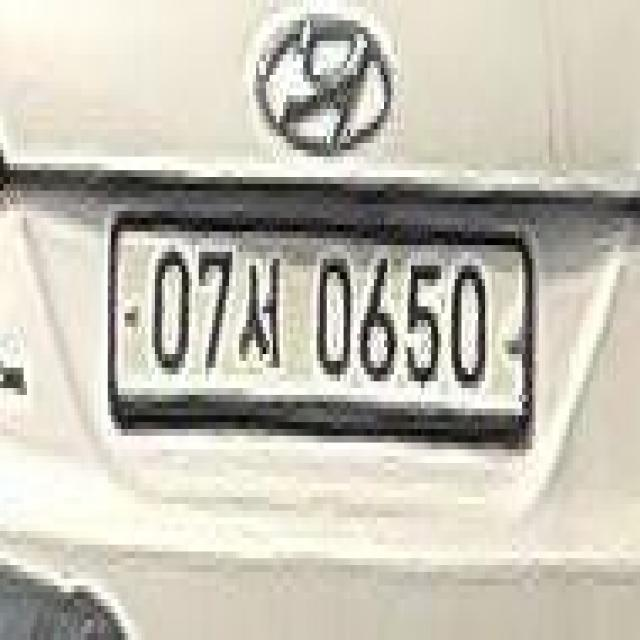illegal_plate: (102, 200, 534, 466)
